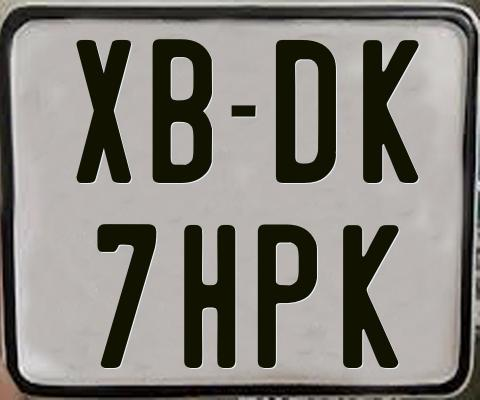7: (96, 221, 159, 370)
B: (152, 36, 216, 186)
D: (274, 39, 335, 185)
H: (184, 223, 237, 371)
K: (362, 40, 422, 188), (341, 222, 399, 369)
P: (256, 221, 318, 366)
X: (74, 37, 135, 183)
